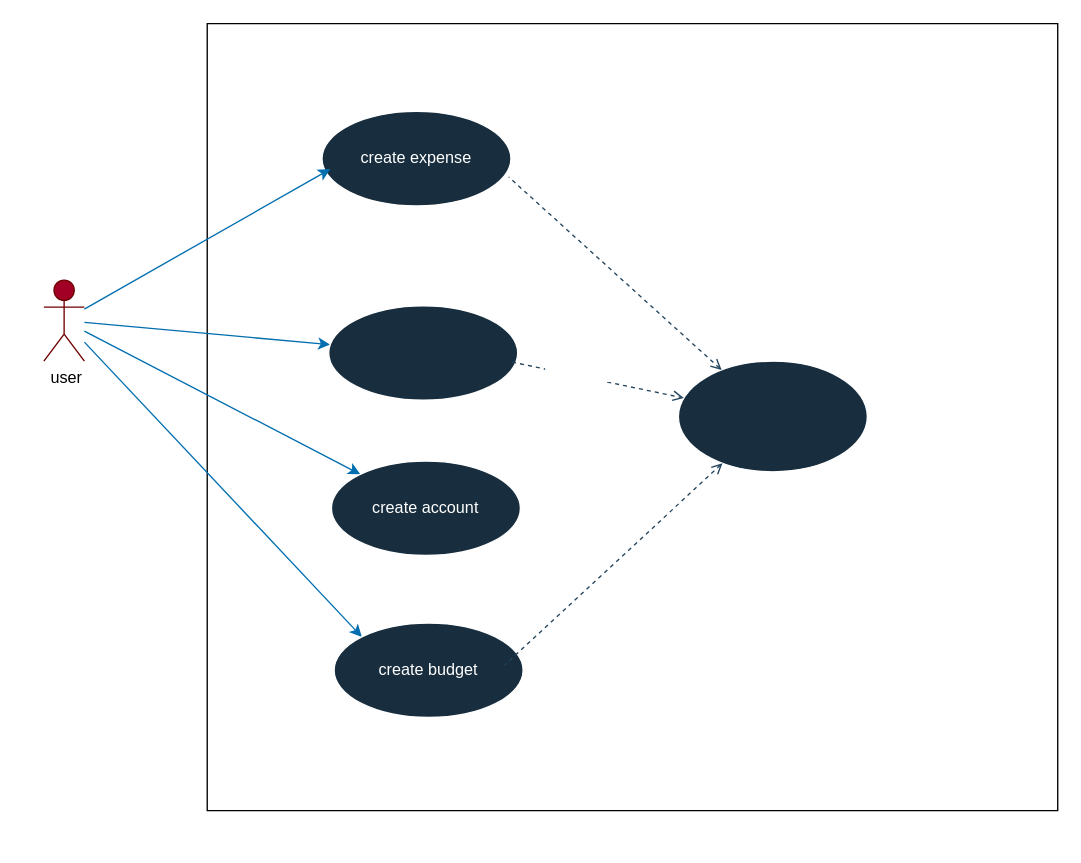
Image size: 1081x863. Some labels were removed from this diagram. Each missing label, with the centre of its shape:
authenticate: [772,416]
create categories: [422,352]
